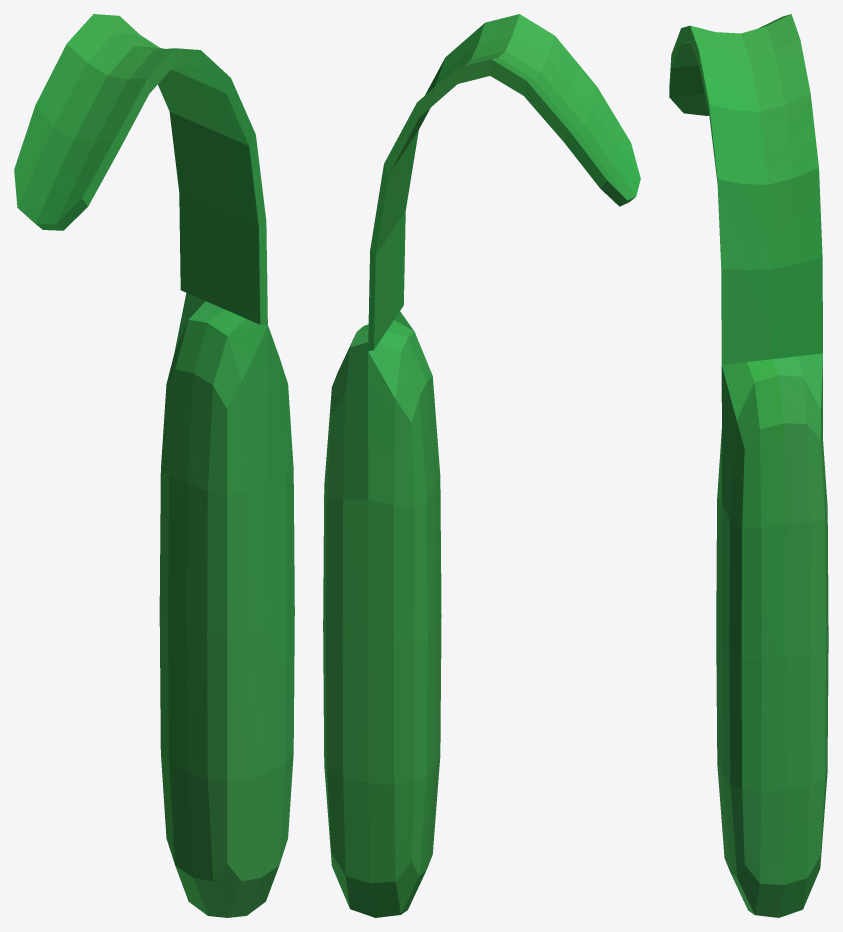
The model's file is SM_Crop_Wheat_Stage_Seed.fbx.
3 views of the same model, side by side, from view 1: azimuth 30°, elevation 25°; view 2: azimuth 150°, elevation 25°; view 3: azimuth 270°, elevation 25° (orthographic). The views are drawn at different scales.
Parts seen in each view (by area): view 1: SM_Crop_Wheat_ST1; view 2: SM_Crop_Wheat_ST1; view 3: SM_Crop_Wheat_ST1.
Boxes of the visible parts, x1,y1,x2,y2 form: SM_Crop_Wheat_ST1: [14, 14, 294, 917]; SM_Crop_Wheat_ST1: [323, 14, 640, 917]; SM_Crop_Wheat_ST1: [669, 14, 828, 917].
Bounding box in the file's own units: 16.99 × 52.56 × 8.98.
1 material, 1 textured.
